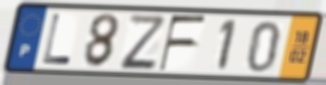0: (245, 19, 284, 74)
1: (217, 18, 239, 72)
8: (82, 11, 121, 70)
F: (157, 14, 209, 73)
L: (41, 12, 74, 66)
Z: (118, 12, 167, 71)
